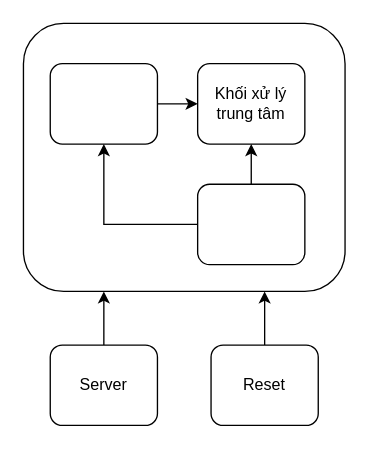
The diagram is 369 pixels wide and 449 high, and some of its shapes have lost their labels. The shapes that lost their labels are listed below. From the top down, each one's centre as x and y in pixels, then its label:
At pixel 103 103: "Khối cảm biến".
At pixel 250 224: "Khối nguồn".
